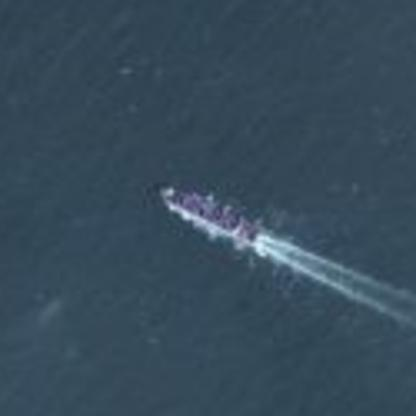ship: (152, 177, 278, 260)
